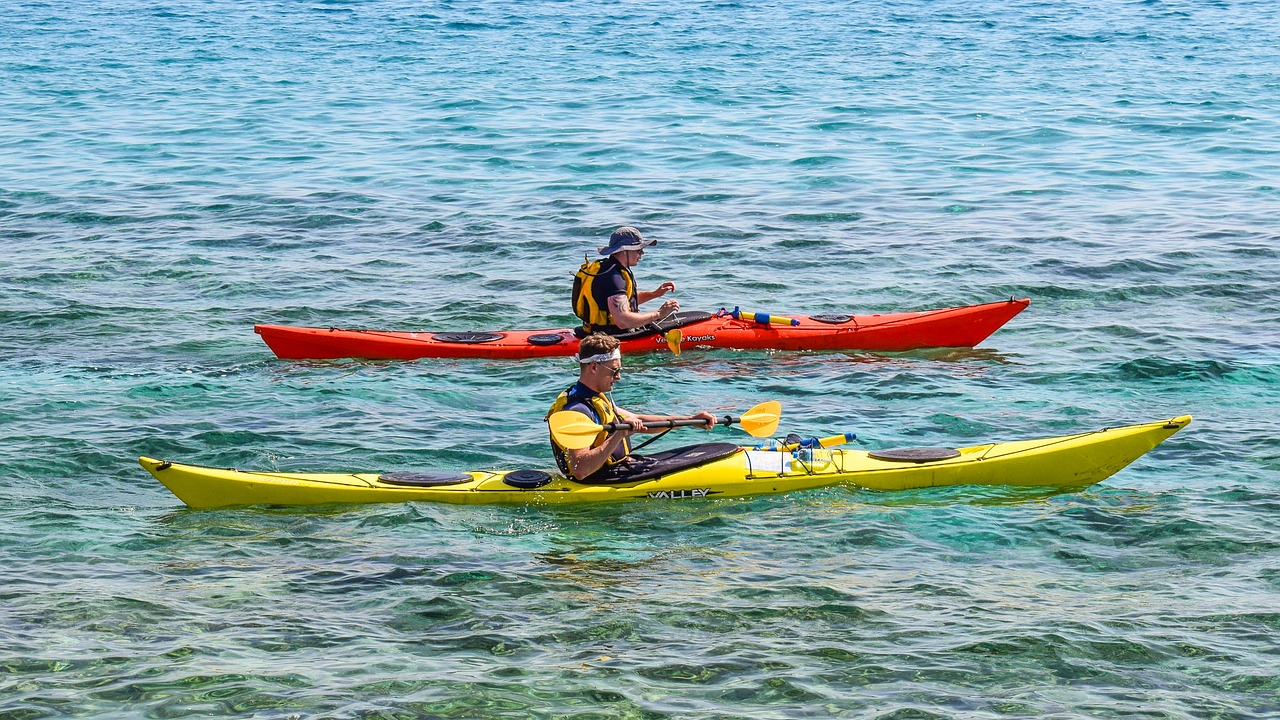kayak: (133, 412, 1218, 532), (240, 292, 1038, 366)
